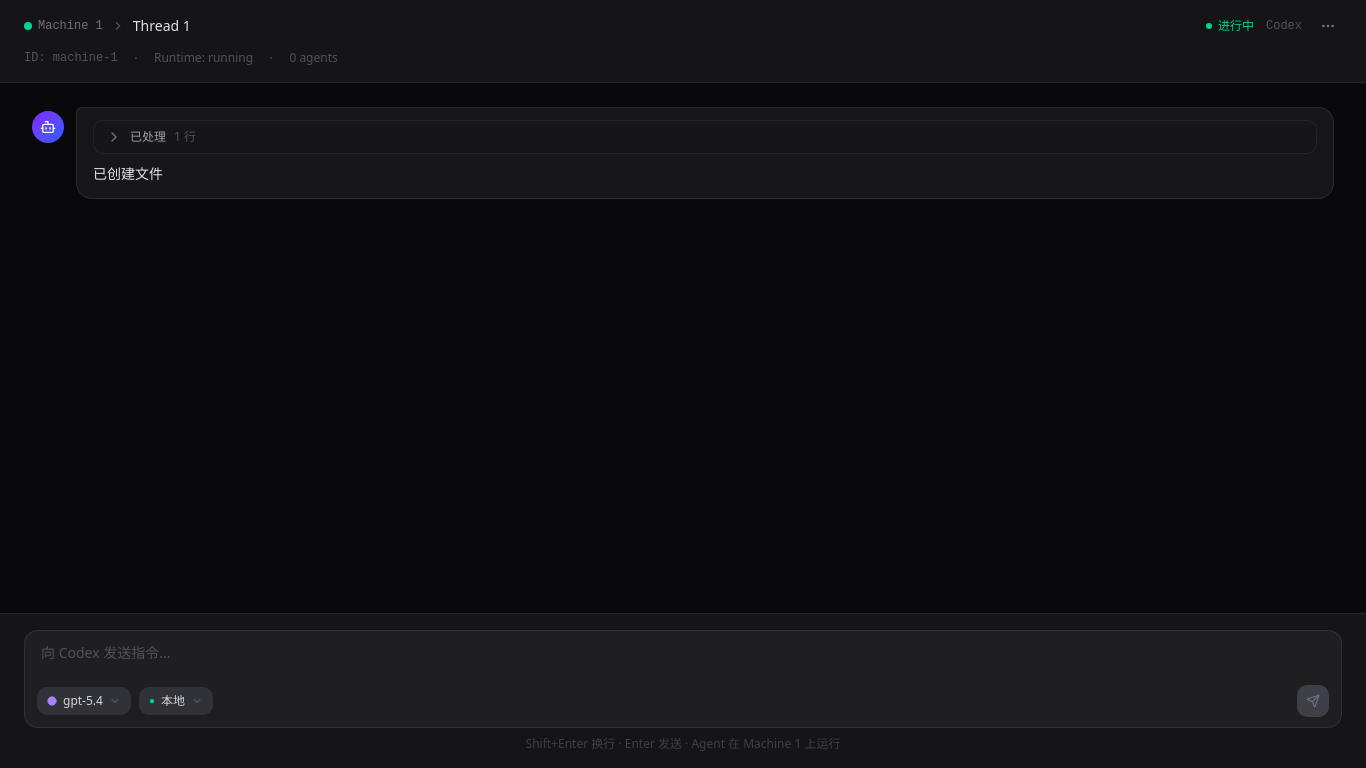
it: keeps the completed process container when the progress heading is omitted
Check: the text "我会在当前目录创建名为" is not shown
Click the text "已处理". click: click(148, 137)
box: [130,129,166,145]
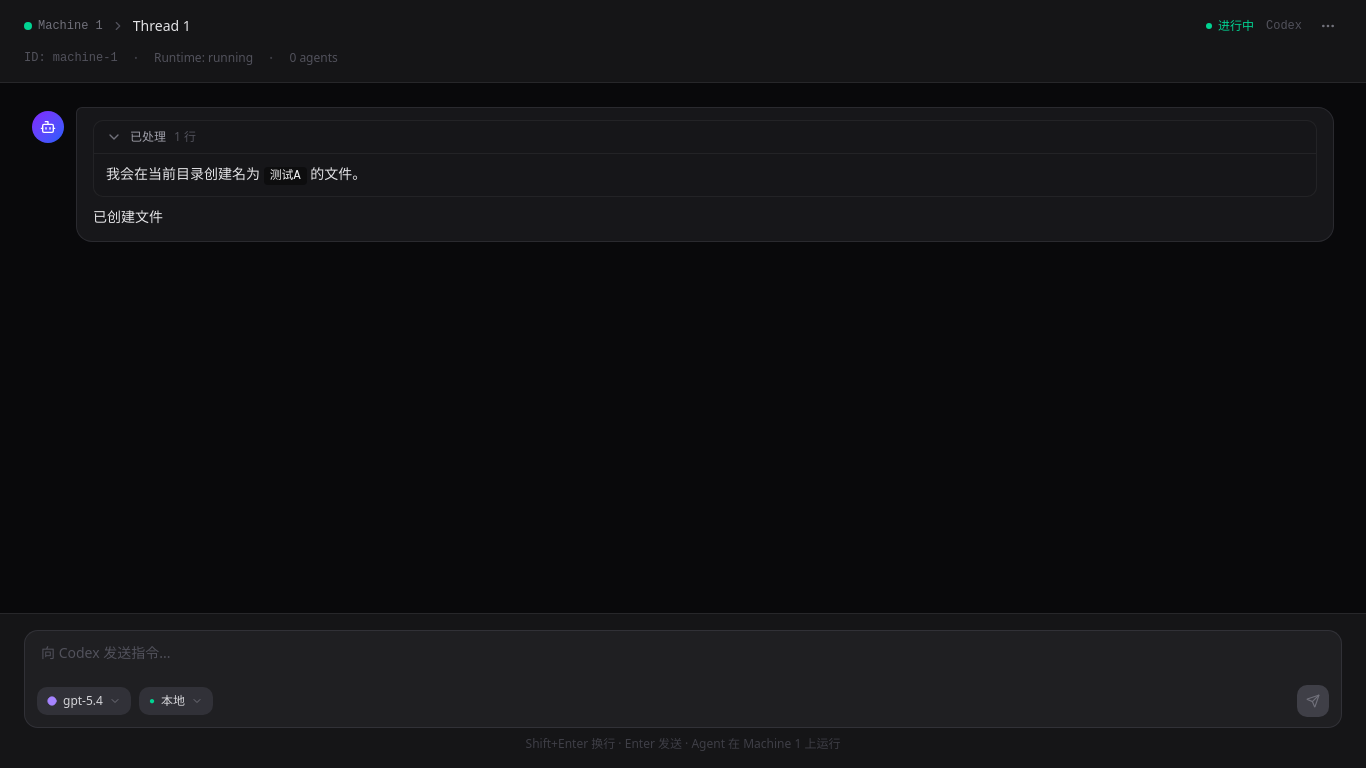
Check: the text "测试A" is shown, box [264,167,306,185]
Check: the text "测试A" shows "我会在当前目录创建名为", box [106,164,264,183]
